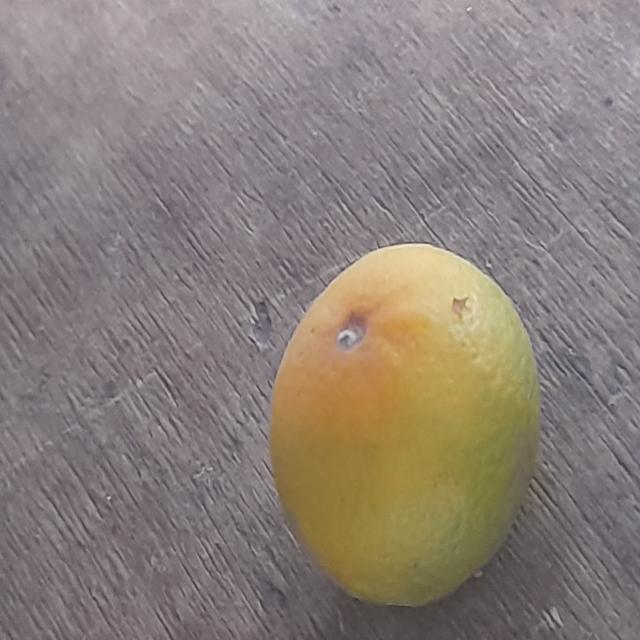greening: (260, 239, 538, 613)
